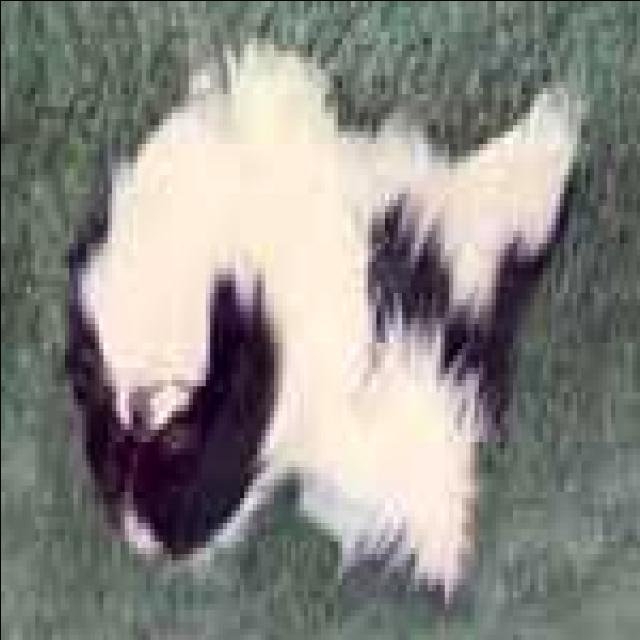husky: (56, 31, 594, 609)
